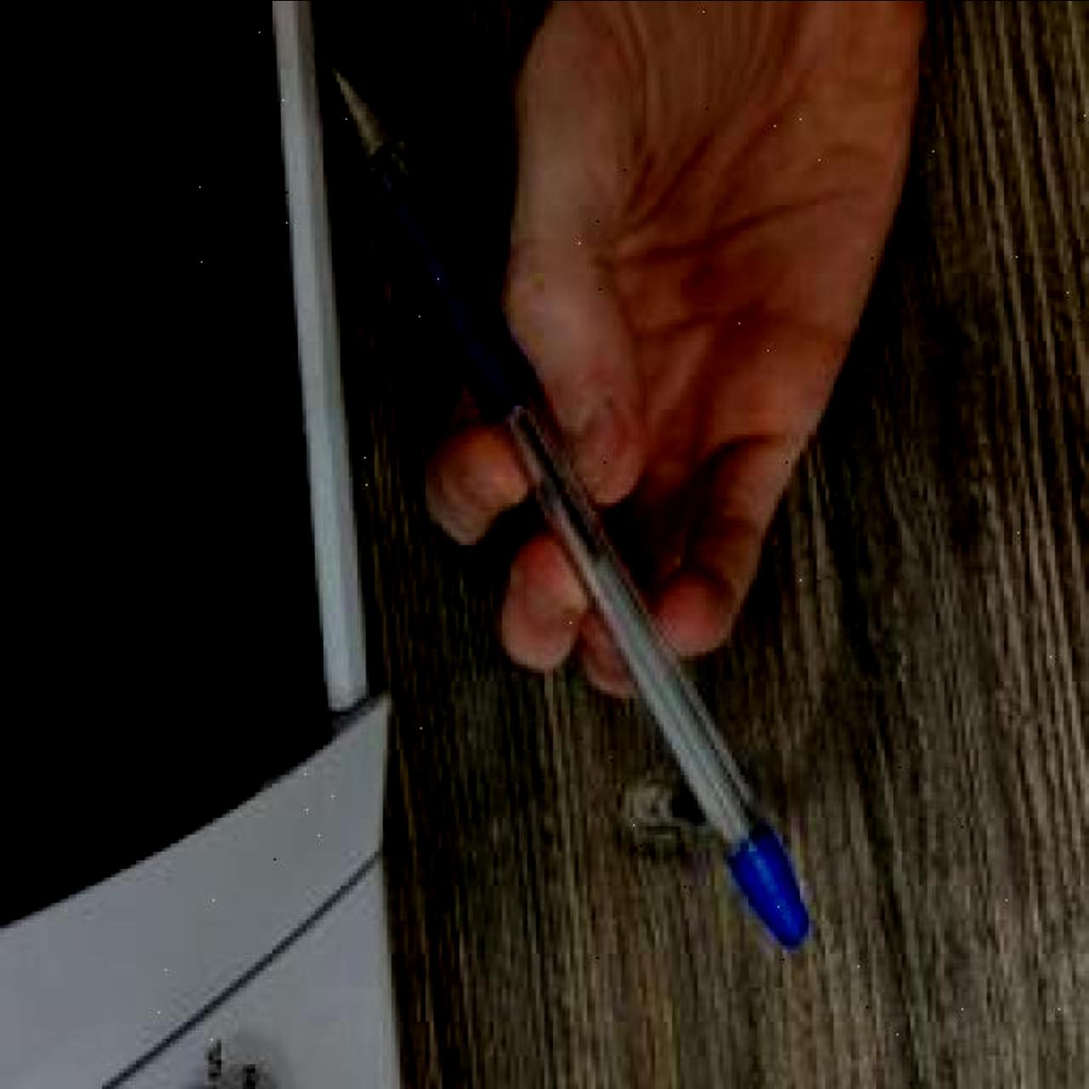pen: (323, 56, 813, 949)
